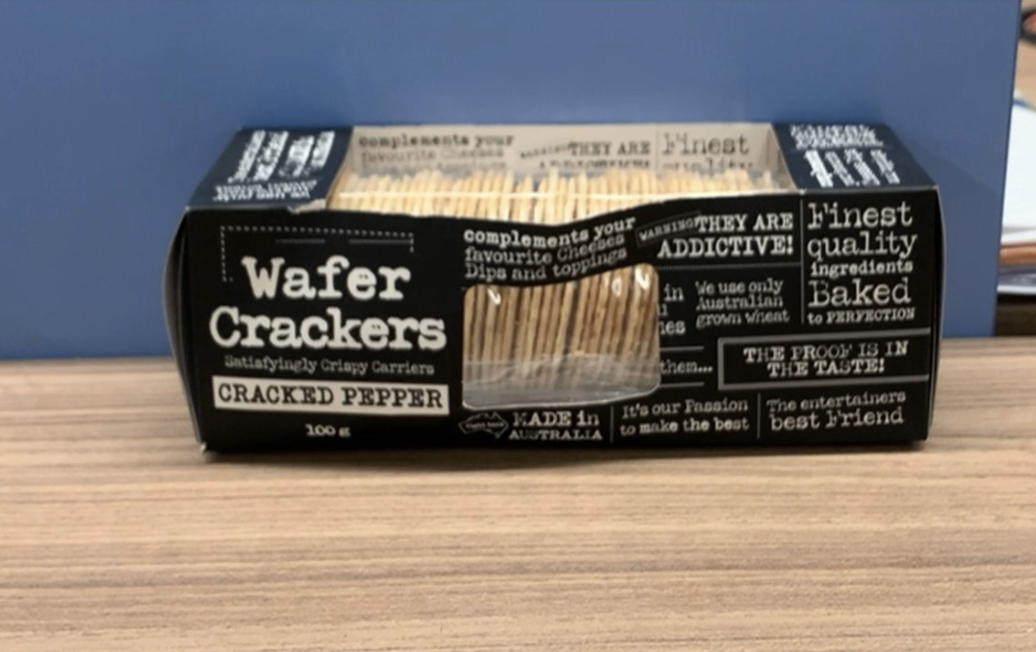crackers_150g: (194, 213, 924, 437)
